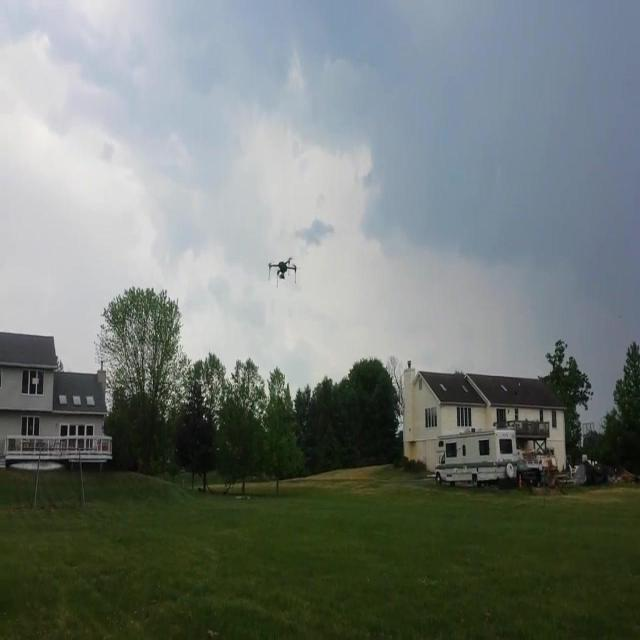drone: (266, 254, 298, 290)
